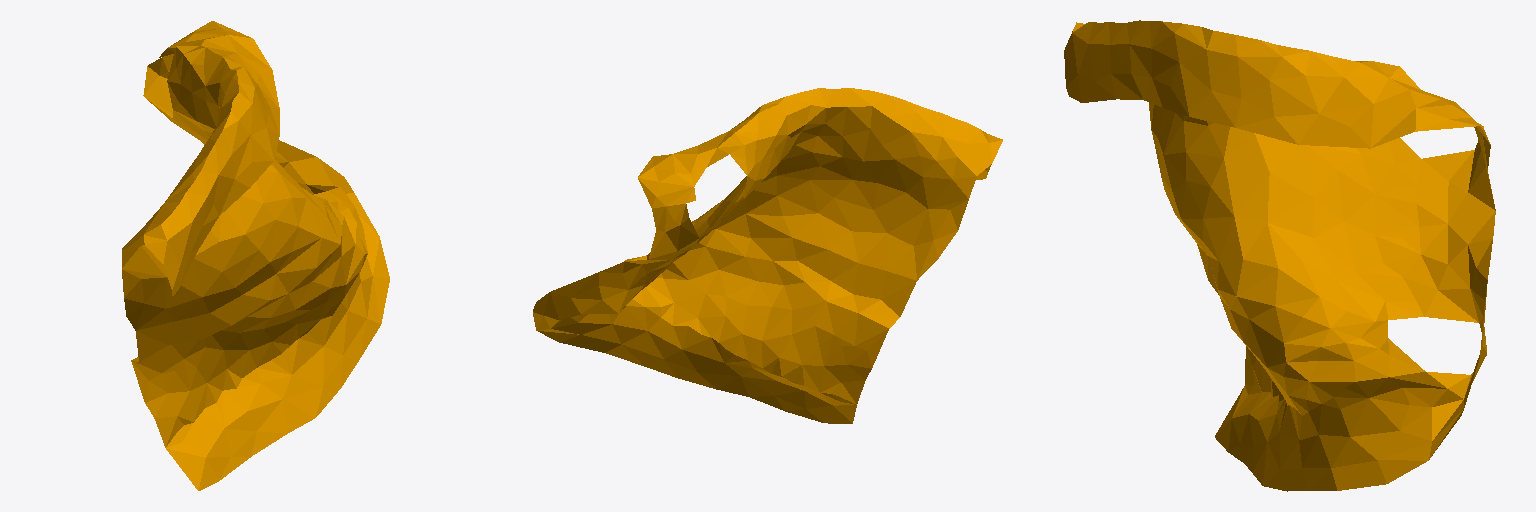
The robot description file, URDF, robot "init":
<?xml version='1.0' encoding='utf-8'?>
<robot name="init">
<link name="link_0"><inertial><mass value="1.0" /><origin rpy="0 0 0" xyz="0.000000 0.000000 0.000000" /><inertia ixx="1.0" ixy="0.0" ixz="0.0" iyy="1.0" iyz="0.0" izz="1.0" /></inertial><visual><origin rpy="0 0 0" xyz="0.000000 0.000000 0.000000" /><geometry><mesh filename="./clothHuman/cloth/1906.obj" /></geometry></visual><collision><origin rpy="0 0 0" xyz="0.000000 0.000000 0.000000" /><geometry><mesh filename="./clothHuman/cloth/1906.obj" /></geometry></collision></link></robot>

--- What the picture shows (computed from the rendered views, not written in the file) ---
Views: 3 orthographic renders of the robot side by side, from view 1: azimuth 30°, elevation 25°; view 2: azimuth 150°, elevation 25°; view 3: azimuth 270°, elevation 25°.
Model init with 1 links and 0 joints (none), rooted at link_0, posed all joints at 0.
Links seen in each view (by area): view 1: link_0; view 2: link_0; view 3: link_0.
Boxes of the visible links, x1,y1,x2,y2 form: link_0: (122,21,389,490); link_0: (533,88,1002,423); link_0: (1064,20,1495,491).
Bounding box of the posed robot: 3.55 × 3.03 × 3.33 m (x, y, z).
Meshes: 1 distinct files referenced, 1 mesh visuals loaded (1 OBJ).